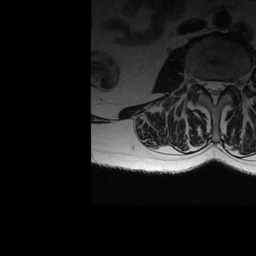CCS_normal: (211, 73, 218, 111)
LFS_severe_stenosis: (226, 74, 233, 95)
LLS_stenosis: (218, 72, 226, 102)
RFS_normal: (195, 69, 203, 94)
RLS_normal: (203, 73, 211, 98)
